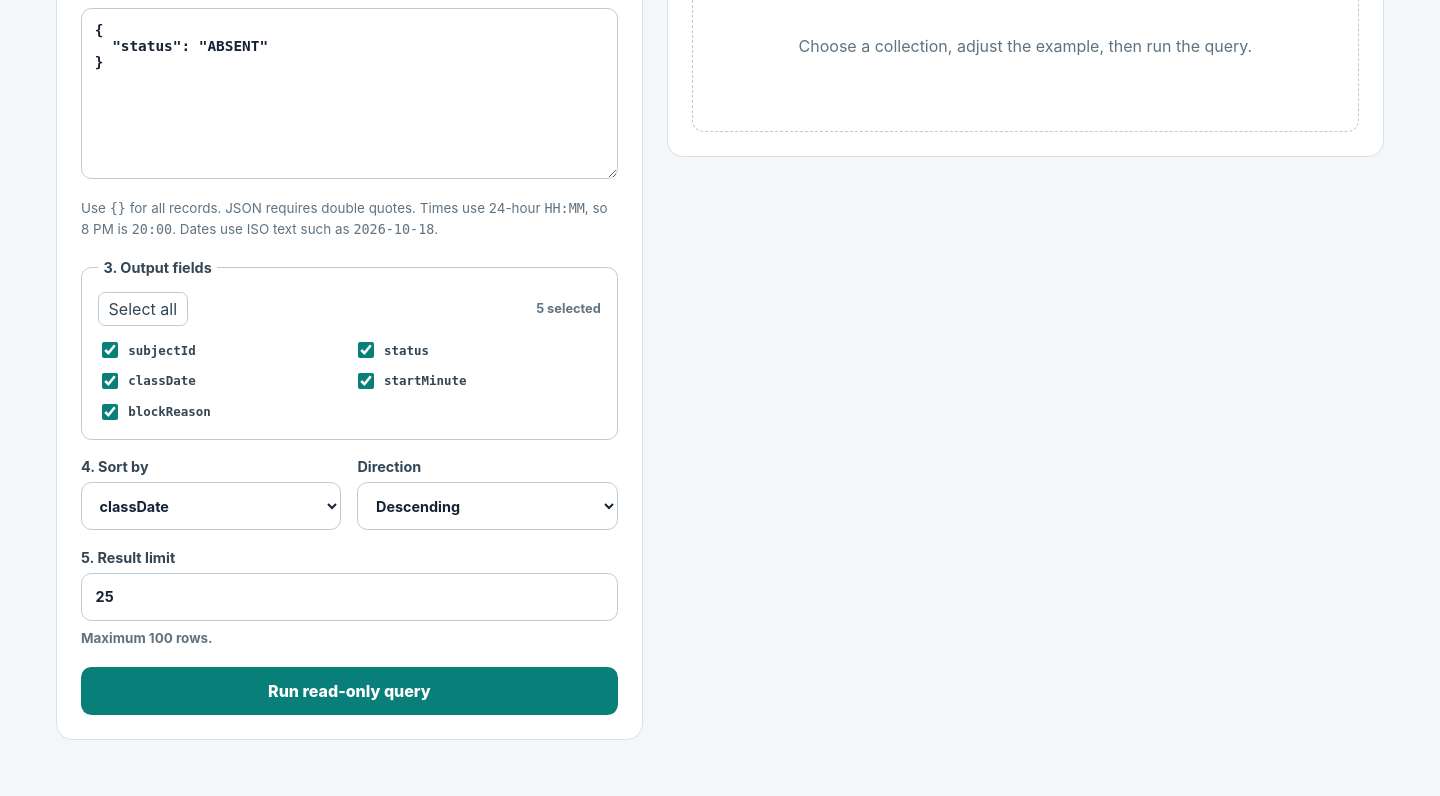
QueryConsolePage › shows approved fields and sends the guided example query
(page scrolled)
Check: the text "20:00" is shown, box top-left (132, 222), bottom-right (172, 237)
Click the button "Run read-only query" at (349, 691), box top-left (81, 667), bottom-right (618, 715)
(page scrolled)
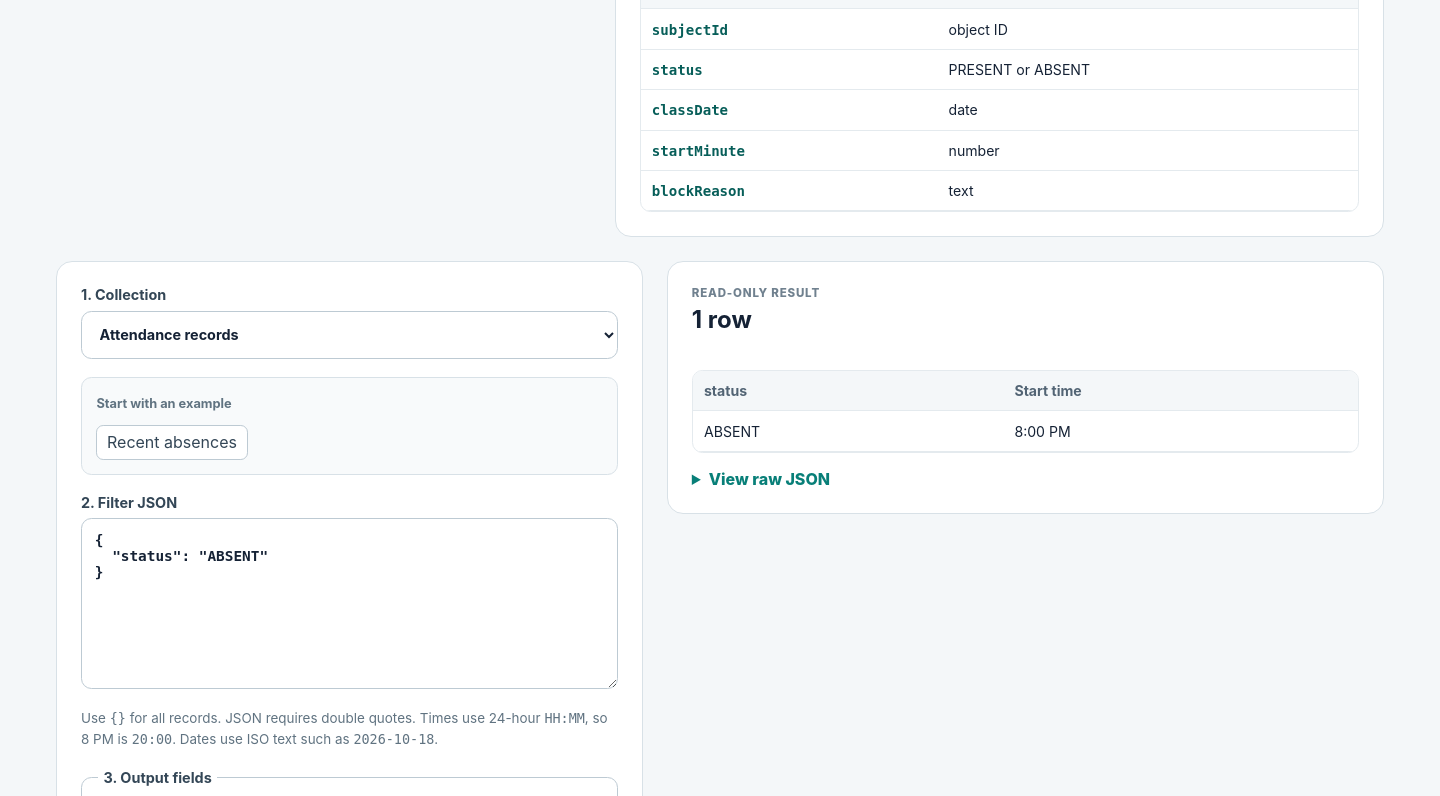
Check: the text "8:00 PM" is shown, box top-left (1003, 411), bottom-right (1358, 451)
Check: the column heading "Start time" is shown, box top-left (1003, 371), bottom-right (1358, 411)
